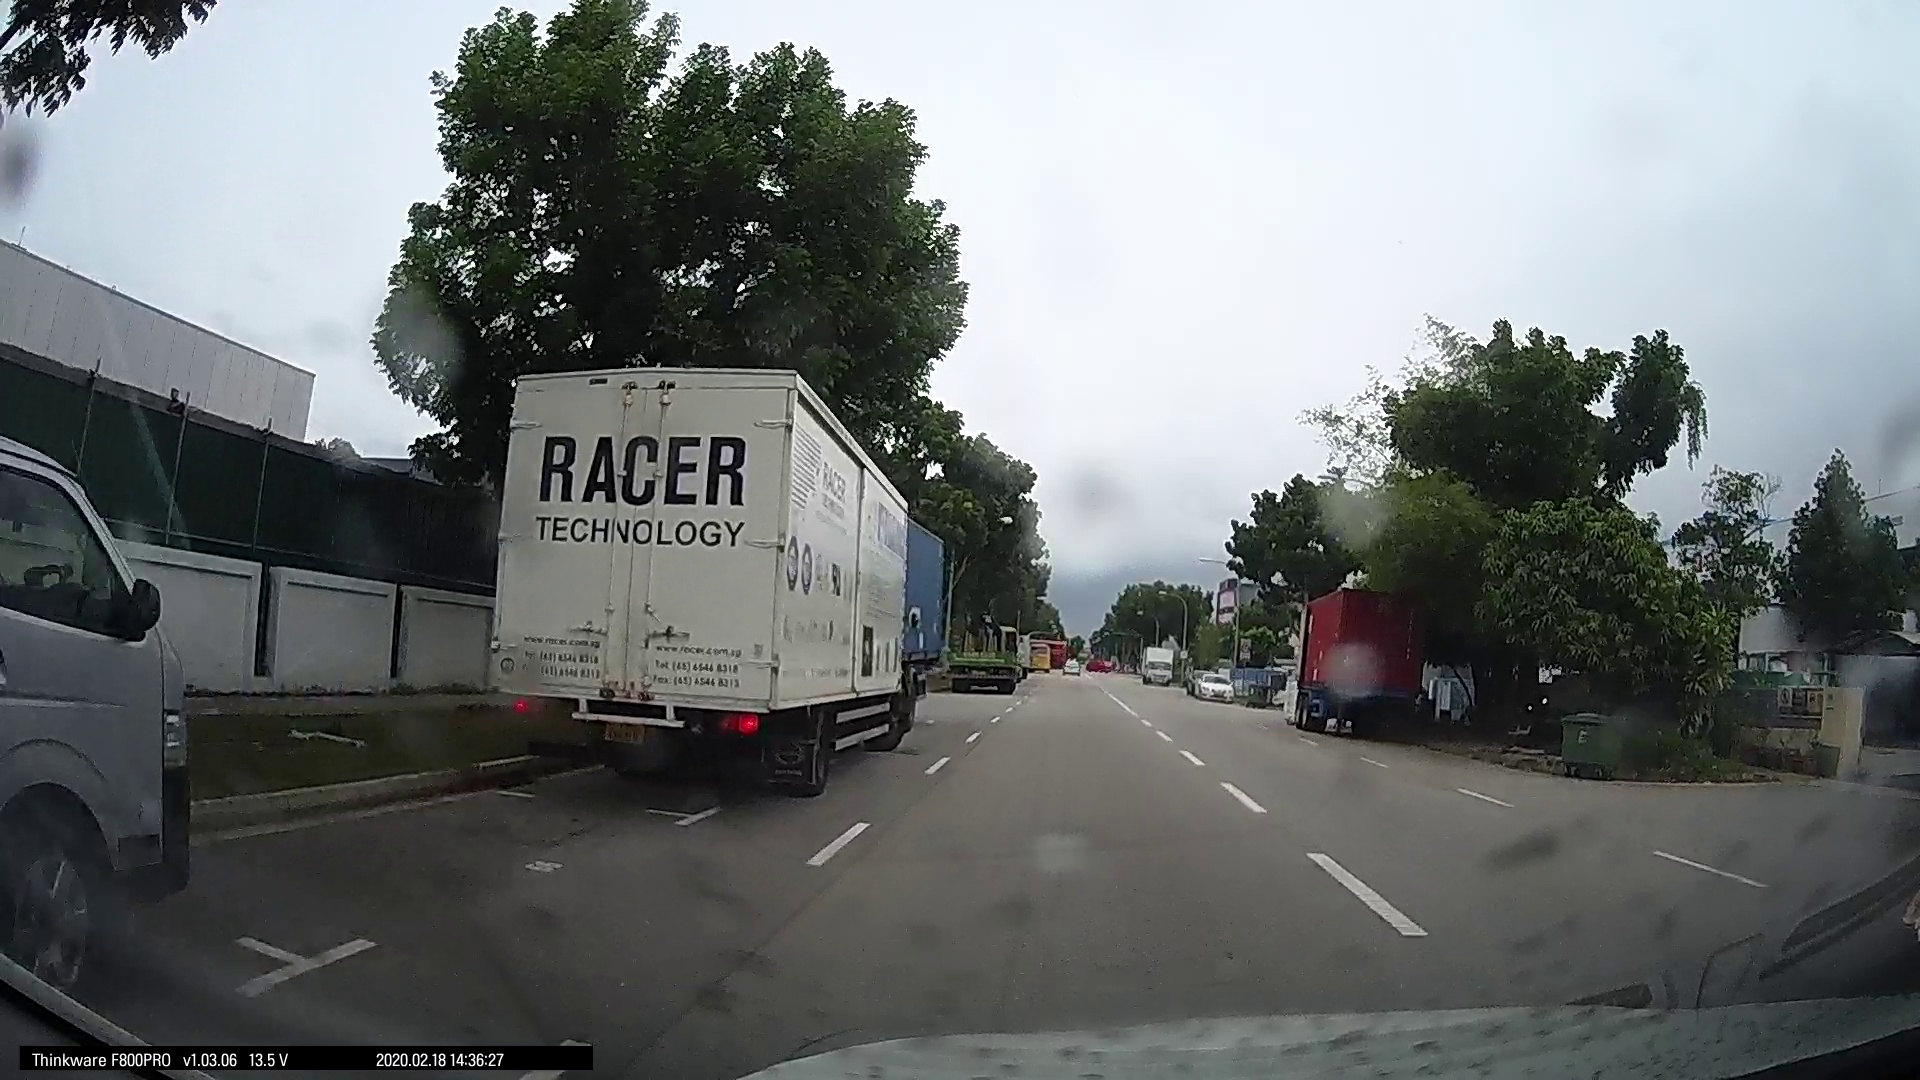Heavy Vehicle: (487, 357, 922, 799), (1, 407, 200, 997), (1280, 583, 1444, 738)
